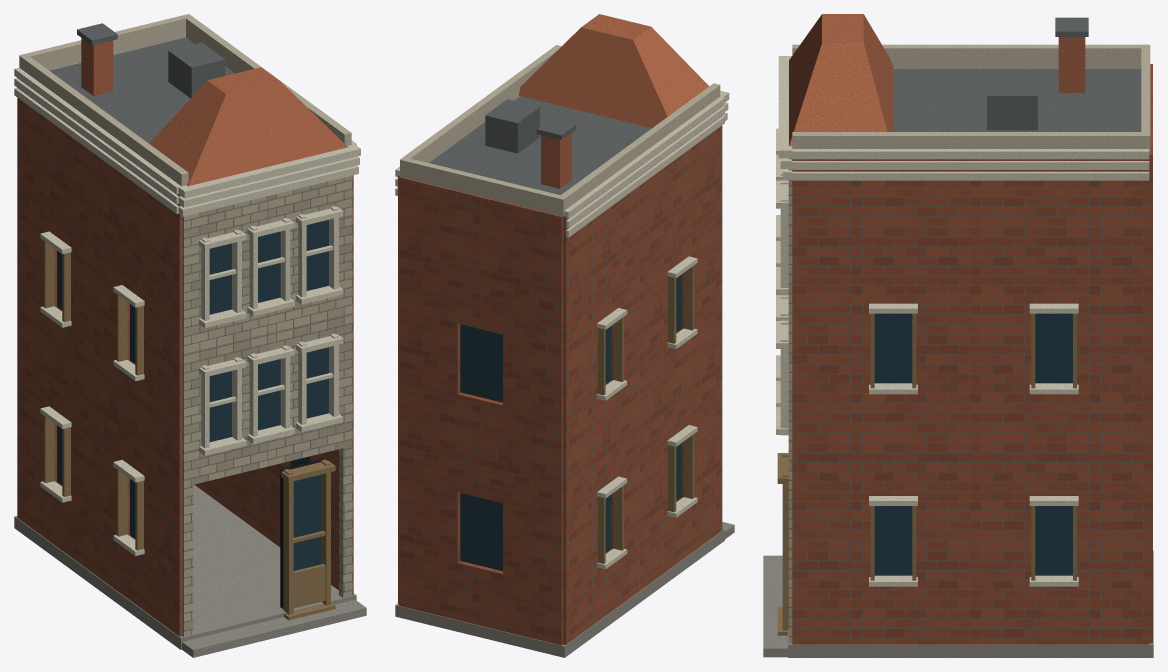
File: VICT33_lod2.glb
3 views of the same model, side by side, from view 1: azimuth 30°, elevation 25°; view 2: azimuth 150°, elevation 25°; view 3: azimuth 270°, elevation 25° (orthographic). The views are drawn at different scales.
Visible parts, largest first — view 1: VICT33_LOD2; view 2: VICT33_LOD2; view 3: VICT33_LOD2.
Part boxes in pixels (x1,y1,x2,y2): VICT33_LOD2: (14, 14, 366, 657); VICT33_LOD2: (395, 14, 734, 657); VICT33_LOD2: (763, 14, 1153, 657).
Size of the model in its own units: 4.11 by 10.8 by 6.57.
11 materials, 9 textured.
